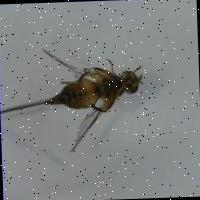Oriental-fruit-fly: (34, 29, 162, 165)
